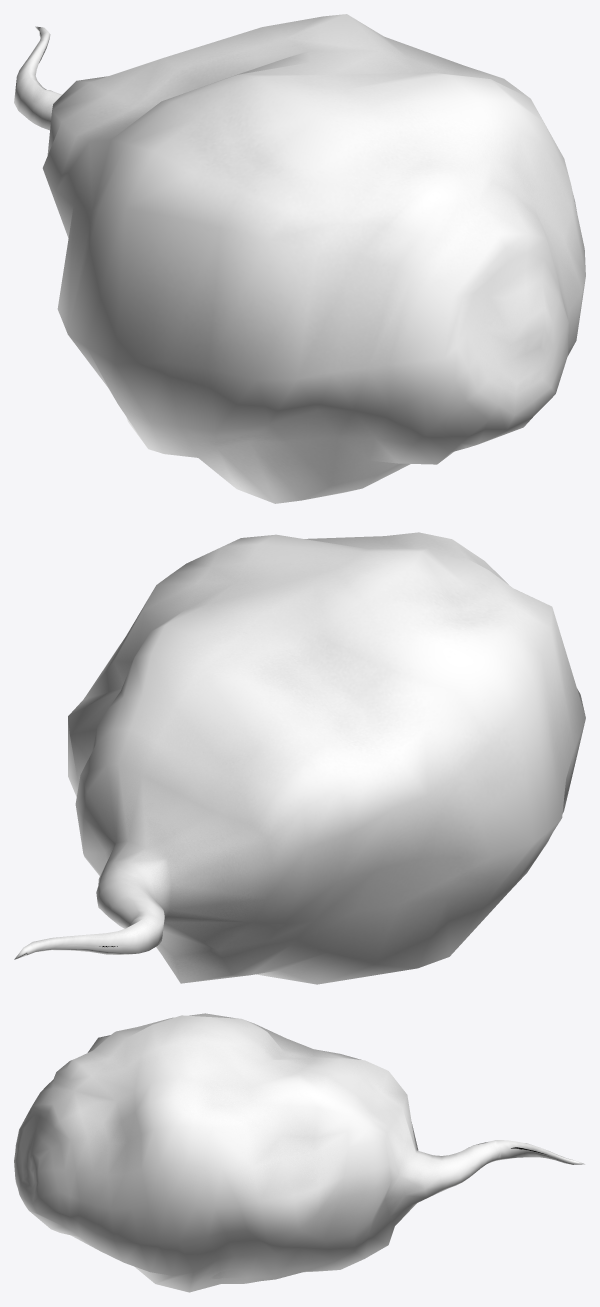
File: Nimbus.fbx
3 renders of one model, top to bottom at view 1: azimuth 30°, elevation 25°; view 2: azimuth 150°, elevation 25°; view 3: azimuth 270°, elevation 25°, orthographic. The views are drawn at different scales.
Visible parts, largest first — view 1: Nimbus_LowPoly; view 2: Nimbus_LowPoly; view 3: Nimbus_LowPoly.
Boxes of the visible parts, x1,y1,x2,y2 form: Nimbus_LowPoly: (14,14,585,503); Nimbus_LowPoly: (14,532,585,984); Nimbus_LowPoly: (14,1013,584,1292).
Size of the model in its own units: 434 by 370 by 766.
